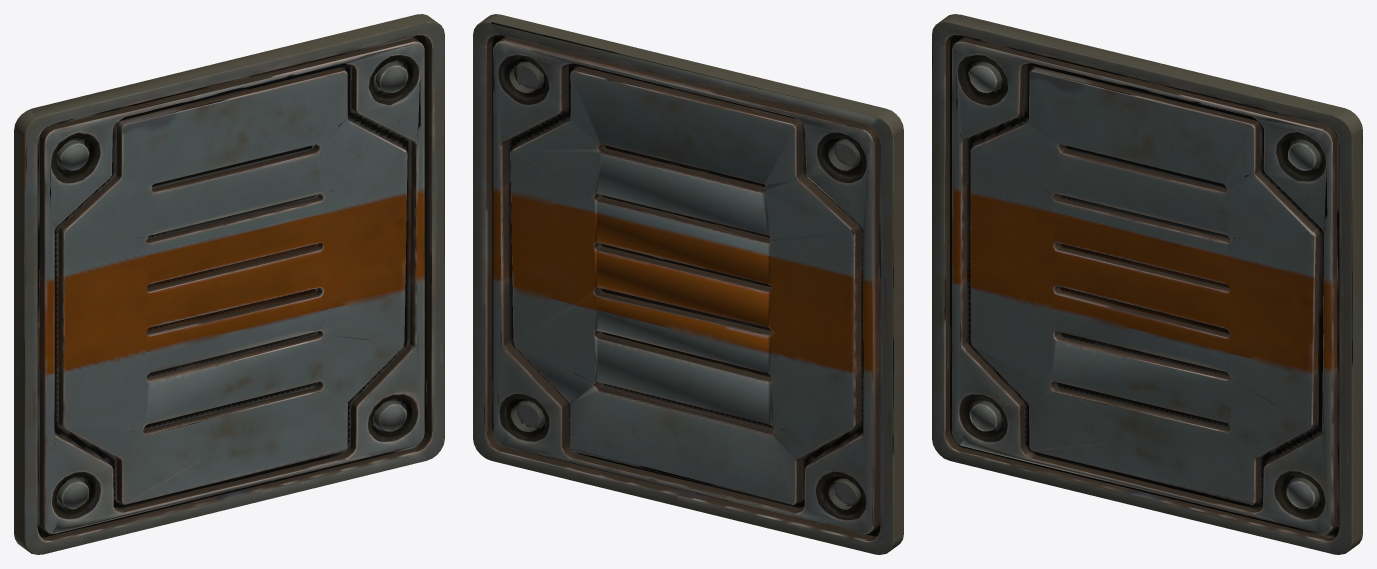
The model's file is Spaceship Ceiling.glb.
The picture shows the model from 3 angles, left to right: view 1: azimuth 30°, elevation 25°; view 2: azimuth 150°, elevation 25°; view 3: azimuth 330°, elevation 25°; orthographic projection.
Visible parts, largest first — view 1: geometry_0; view 2: geometry_0; view 3: geometry_0.
Boxes of the visible parts, <box> form: geometry_0: <box>14,14,444,554</box>; geometry_0: <box>473,14,903,554</box>; geometry_0: <box>932,14,1362,554</box>.
Size of the model in its own units: 0.9536 by 0.9507 by 0.0449.
Materials: 1 (1 with a texture image).
